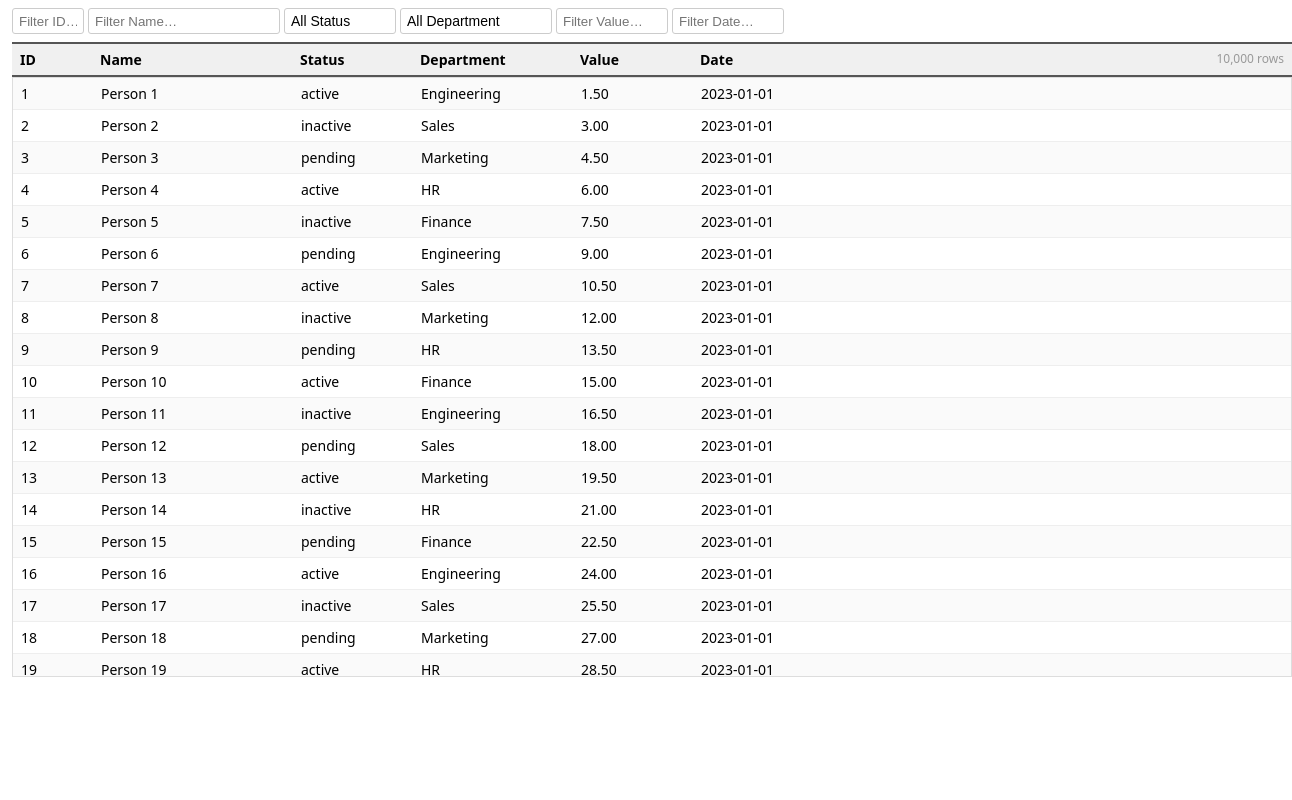
VirtualTable › shows sort indicator when a column header is clicked
Expected: the element with test id "row-0" is shown, [13,78,1291,110]
Step 1. Click the text with test id "sort-name" → (121, 60), box [100,50,142,69]
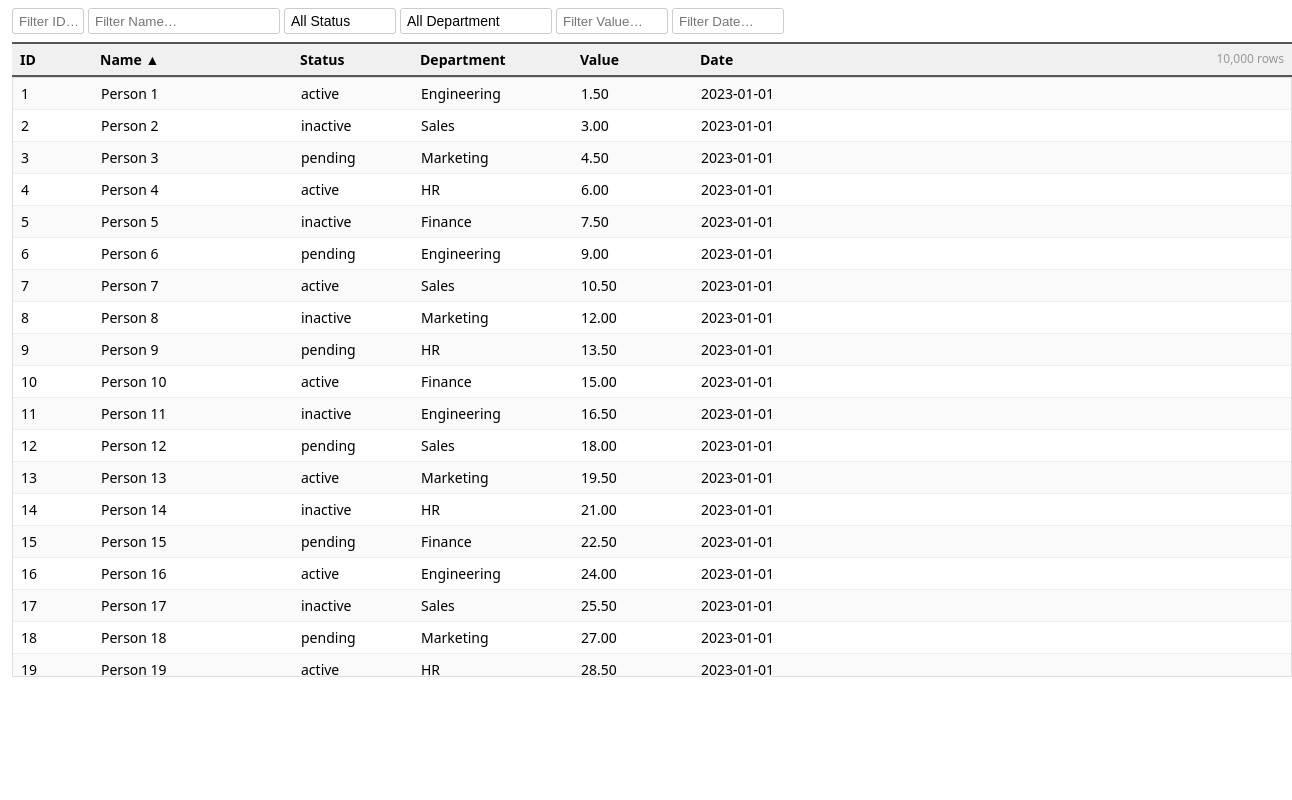
Expected: the text with test id "sort-name" shows "▲", [142,50,159,69]
